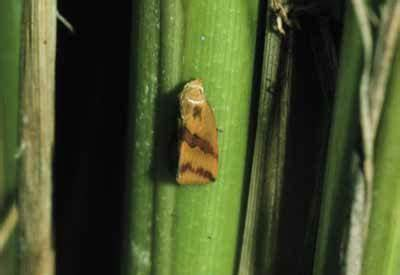Noctuidae: (169, 75, 224, 186)
